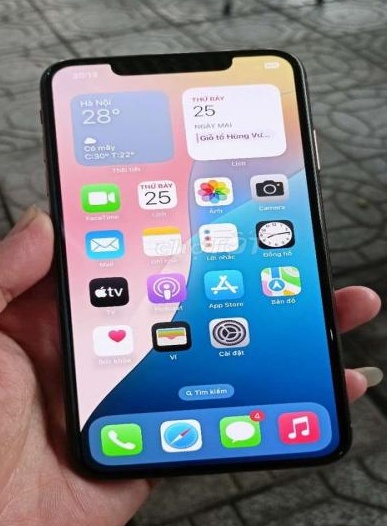scratch: (327, 444, 365, 471), (317, 322, 347, 349), (43, 57, 64, 85)
